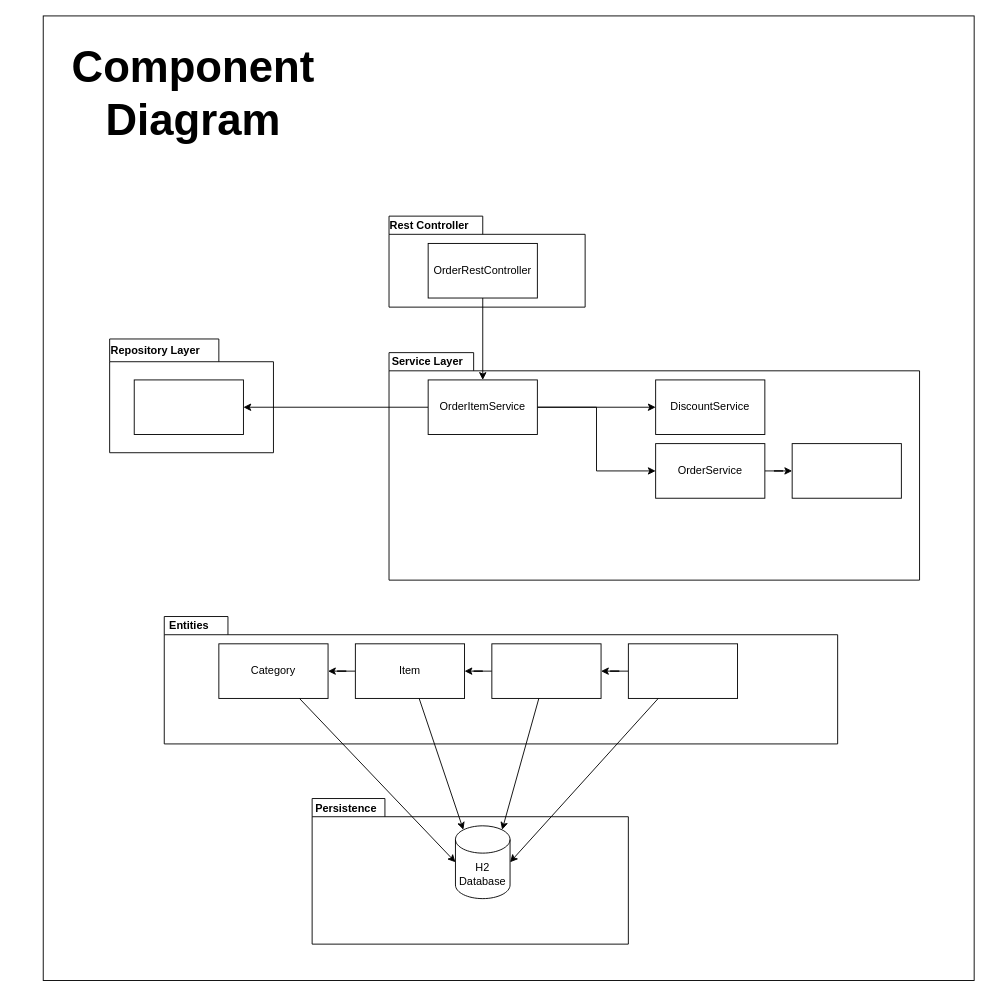
Some shapes in this 990 by 996 pixel diagram are drawn without their labels. The shapes that lost their labels are listed below. From the top down, each one's centre as x and y in pixels, then its label:
At (x=188, y=407): "ItemRepository".
At (x=846, y=470): "TaxService".
At (x=546, y=670): "OrderItem".
At (x=682, y=670): "Order".
